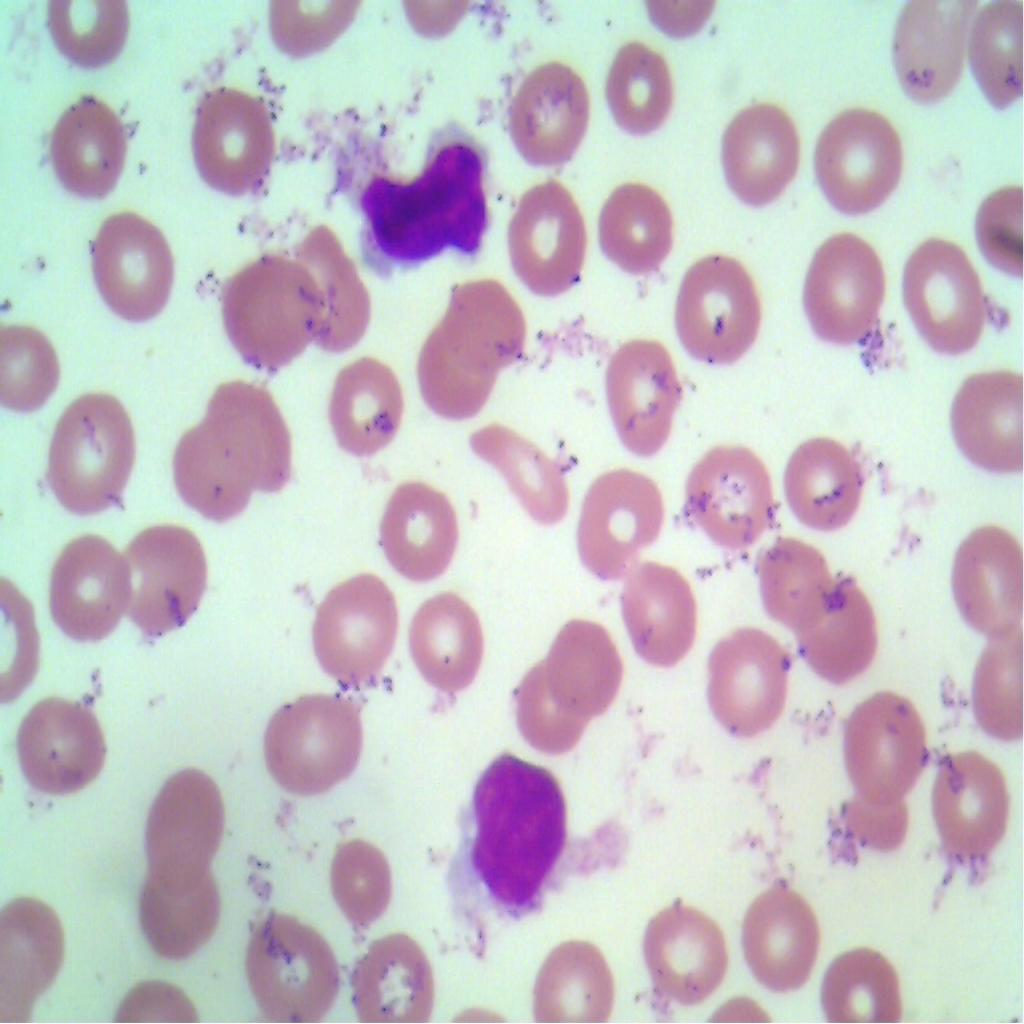Eritrosit: (113, 509, 210, 648), (308, 338, 408, 471), (499, 45, 598, 175), (16, 692, 126, 809), (46, 388, 139, 525), (83, 207, 175, 341), (703, 608, 791, 748), (186, 81, 286, 202), (199, 378, 299, 498), (813, 94, 906, 222), (481, 406, 571, 536), (630, 890, 733, 1002), (244, 911, 346, 1023), (220, 252, 318, 368), (666, 245, 759, 367), (722, 92, 812, 218), (926, 742, 1016, 868), (38, 85, 134, 202), (799, 227, 891, 349), (501, 177, 590, 302), (898, 230, 984, 358), (291, 228, 375, 358), (682, 445, 778, 558), (441, 271, 541, 379), (603, 330, 686, 460), (264, 699, 370, 799), (734, 878, 820, 1000), (46, 525, 131, 648), (314, 564, 398, 685), (598, 32, 686, 147), (366, 474, 462, 578), (579, 465, 664, 578), (349, 924, 446, 1023), (146, 762, 226, 882), (774, 425, 864, 530), (622, 552, 698, 674), (170, 418, 254, 528), (946, 360, 1023, 477), (403, 580, 482, 694), (883, 0, 970, 103), (844, 692, 929, 794), (946, 527, 1024, 637), (414, 314, 492, 424), (528, 928, 618, 1023), (802, 582, 890, 678), (538, 616, 626, 712), (598, 180, 673, 282), (818, 934, 902, 1023), (142, 861, 216, 961), (0, 891, 68, 997), (758, 525, 830, 624), (42, 0, 138, 74), (964, 0, 1023, 118), (510, 655, 584, 749), (0, 321, 66, 418), (330, 828, 393, 928), (846, 772, 902, 859)
Limfoblast: (336, 117, 498, 266), (456, 741, 571, 909)
